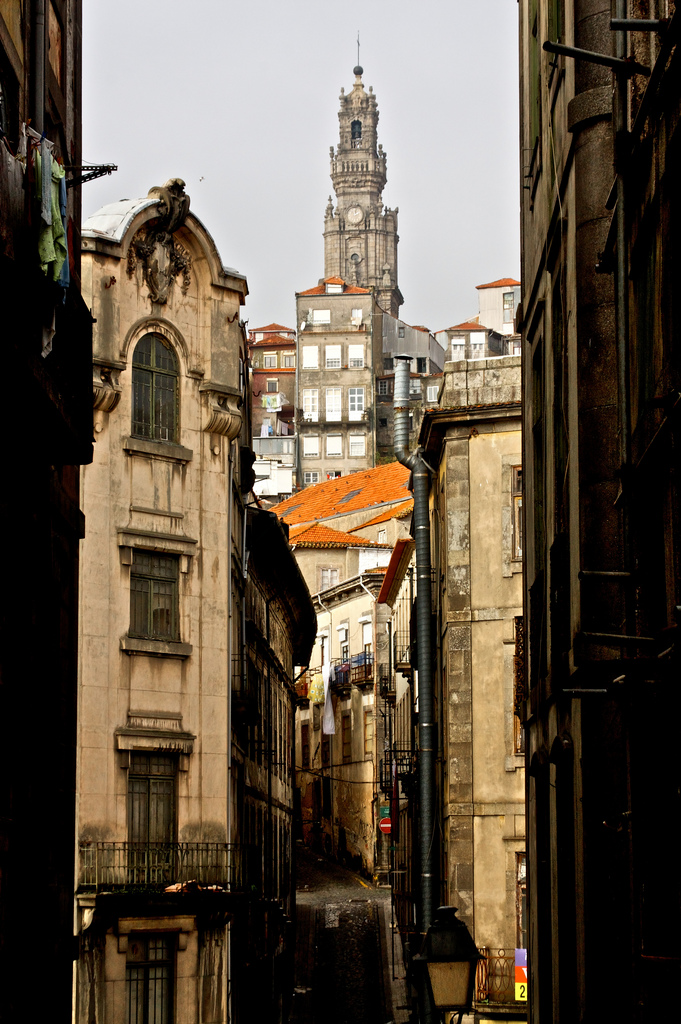clerigos: (321, 29, 405, 332)
